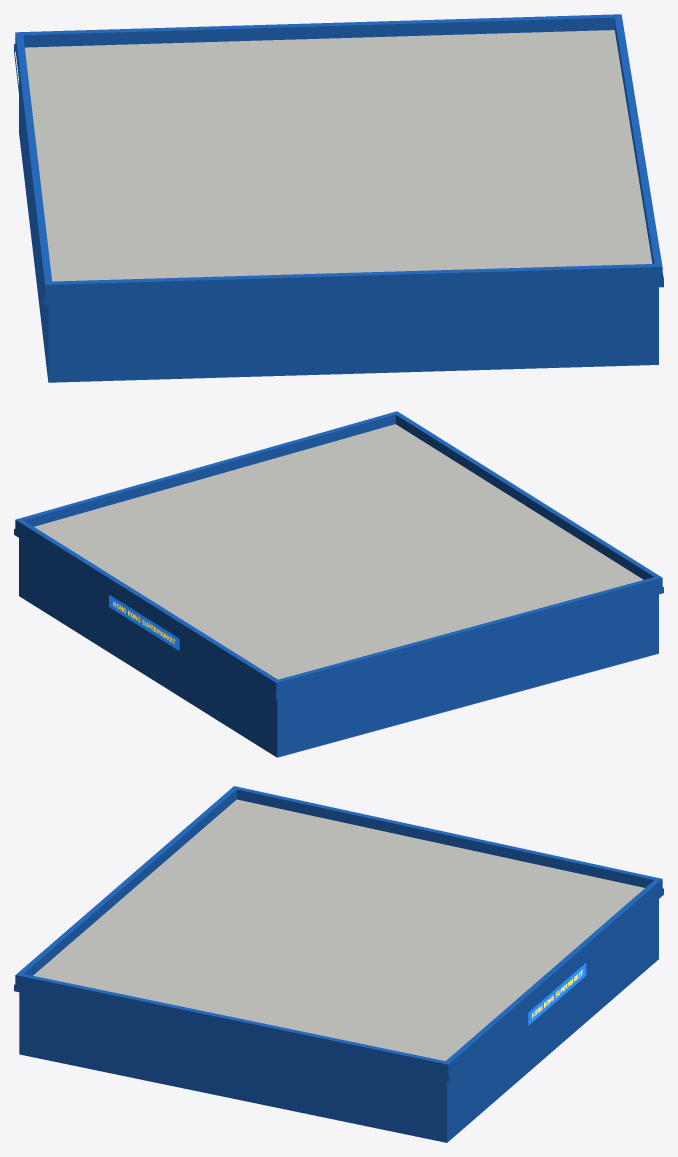
Rendered from hongkong_sc.glb.
3 renders of one model, top to bottom at view 1: azimuth 30°, elevation 25°; view 2: azimuth 150°, elevation 25°; view 3: azimuth 270°, elevation 25°, orthographic. The views are drawn at different scales.
Visible parts, largest first — view 1: hongkong_sc_lod0; view 2: hongkong_sc_lod0; view 3: hongkong_sc_lod0.
Boxes of the visible parts, x1=… form: hongkong_sc_lod0: x1=14, y1=14, x2=663, y2=382; hongkong_sc_lod0: x1=14, y1=411, x2=663, y2=757; hongkong_sc_lod0: x1=14, y1=786, x2=663, y2=1142.
Size of what is drawn, in the model's own units: 60.04 by 8 by 58.94.
Materials: 4 (2 with a texture image).
